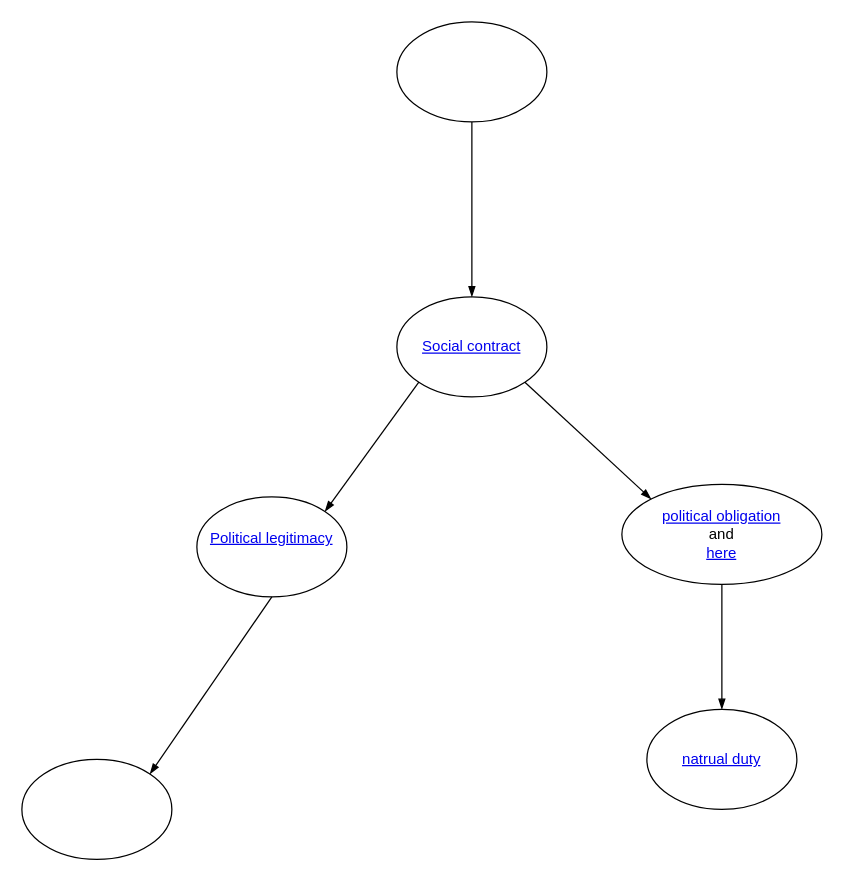
The diagram is 844 pixels wide and 881 high, and some of its shapes have lost their labels. Each missing label, with the box of its shape:
de facto and de jure: (21, 758, 172, 859)
Indvidualism: (396, 21, 547, 122)
